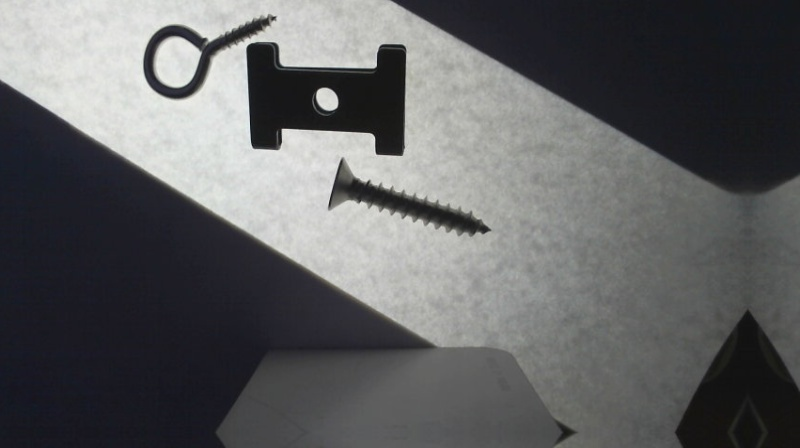O001: (141, 12, 278, 99)
O002: (246, 40, 409, 156)
S001: (326, 156, 491, 237)
